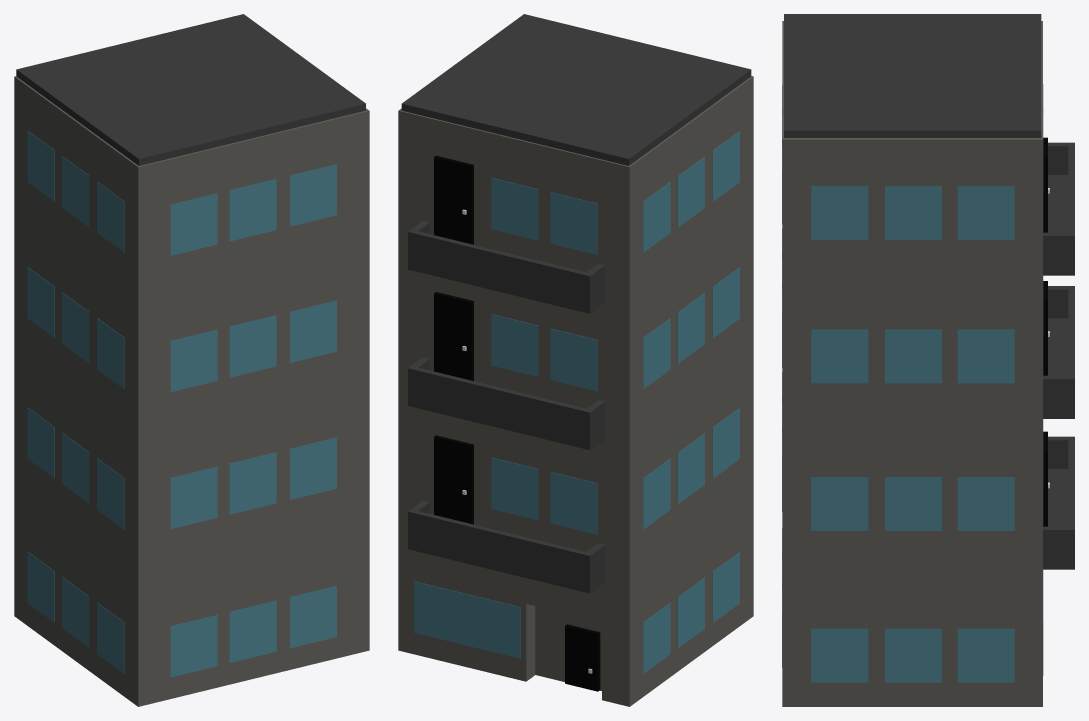
The model's file is building2.glb.
3 views of the same model, side by side, from view 1: azimuth 30°, elevation 25°; view 2: azimuth 150°, elevation 25°; view 3: azimuth 270°, elevation 25° (orthographic). The views are drawn at different scales.
Visible parts, largest first — view 1: Cube, Cube.041, Cube.030, Cube.033, Cube.035, Cube.029, Cube.034, Cube.036, Cube.044, Cube.045, Cube.031, Cube.032 (+14 smaller); view 2: Cube, Cube.041, Cube.008, Cube.002, Cube.053, Cube.010, Cube.003, Cube.054, Cube.007, Cube.001, Cube.006, Cube.009 (+16 smaller); view 3: Cube, Cube.041, Cube.002, Cube.053, Cube.008, Cube.020, Cube.022, Cube.026, Cube.028, Cube.021, Cube.027, Cube.023 (+8 smaller).
Part boxes in pixels (x1,y1,x2,y2): Cube: (14, 76, 369, 706); Cube.041: (16, 14, 365, 165); Cube.030: (229, 315, 276, 377); Cube.033: (229, 452, 276, 514); Cube.035: (170, 615, 217, 677); Cube.029: (170, 329, 217, 391); Cube.034: (170, 466, 217, 528); Cube.036: (229, 600, 276, 662); Cube.044: (229, 179, 276, 241); Cube.045: (170, 193, 217, 255); Cube.031: (290, 300, 336, 362); Cube.032: (290, 437, 336, 499); Cube: (398, 76, 753, 706); Cube.041: (401, 14, 751, 165); Cube.008: (408, 357, 605, 450); Cube.002: (408, 500, 605, 593); Cube.053: (408, 221, 605, 313); Cube.010: (414, 581, 520, 658); Cube.003: (434, 435, 473, 524); Cube.054: (434, 155, 473, 244); Cube.007: (434, 292, 473, 380); Cube.001: (491, 457, 538, 520); Cube.006: (550, 328, 597, 391); Cube.009: (491, 314, 538, 376); Cube: (782, 21, 1042, 706); Cube.041: (784, 14, 1041, 137); Cube.002: (1043, 436, 1074, 569); Cube.053: (1043, 142, 1074, 275); Cube.008: (1043, 286, 1074, 418); Cube.020: (811, 628, 868, 682); Cube.022: (957, 628, 1014, 682); Cube.026: (811, 329, 868, 383); Cube.028: (957, 329, 1014, 383); Cube.021: (885, 628, 941, 682); Cube.027: (885, 329, 941, 383); Cube.023: (957, 477, 1014, 530).
Bounding box in the file's own units: 3.54 × 7.99 × 3.69.
